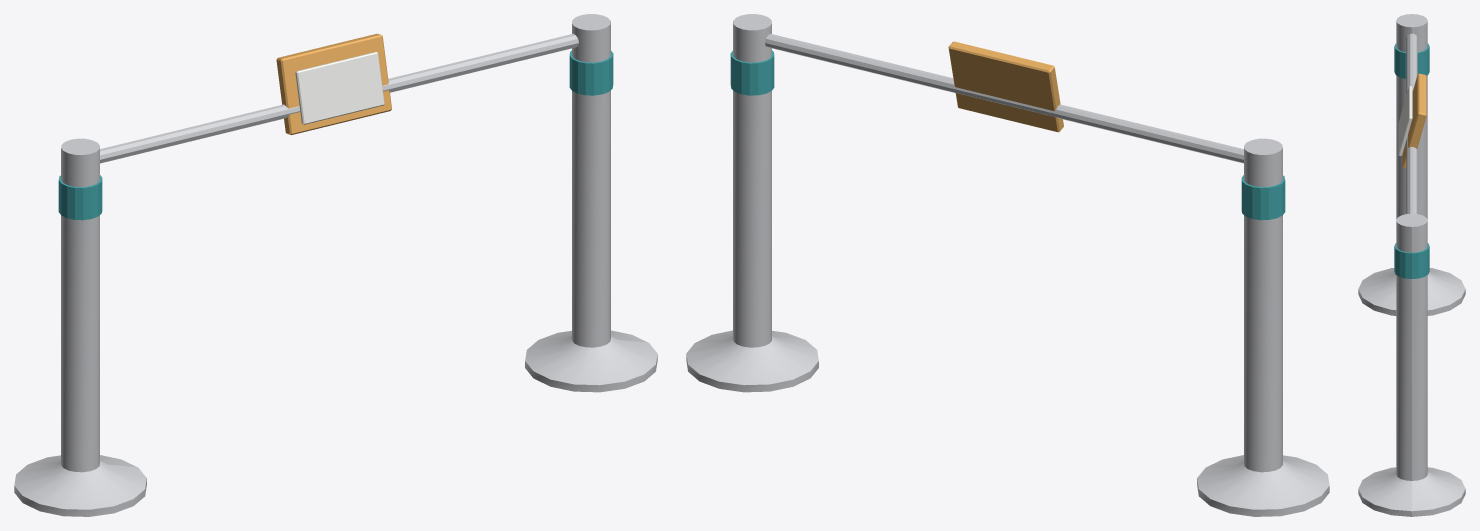
Rendered from pet-shop-and-grooming-salon-queue-rail-8a72ff96__34579.glb.
The picture shows the model from 3 angles, left to right: view 1: azimuth 30°, elevation 25°; view 2: azimuth 150°, elevation 25°; view 3: azimuth 270°, elevation 25°; orthographic projection. The views are drawn at different scales.
Visible parts, largest first — view 1: queue-rail; view 2: queue-rail; view 3: queue-rail.
Boxes of the visible parts, x1=… form: queue-rail: x1=14, y1=14, x2=657, y2=516; queue-rail: x1=686, y1=14, x2=1329, y2=516; queue-rail: x1=1358, y1=14, x2=1465, y2=516.
Size of the model in its own units: 1.84 by 1.06 by 0.3401.
